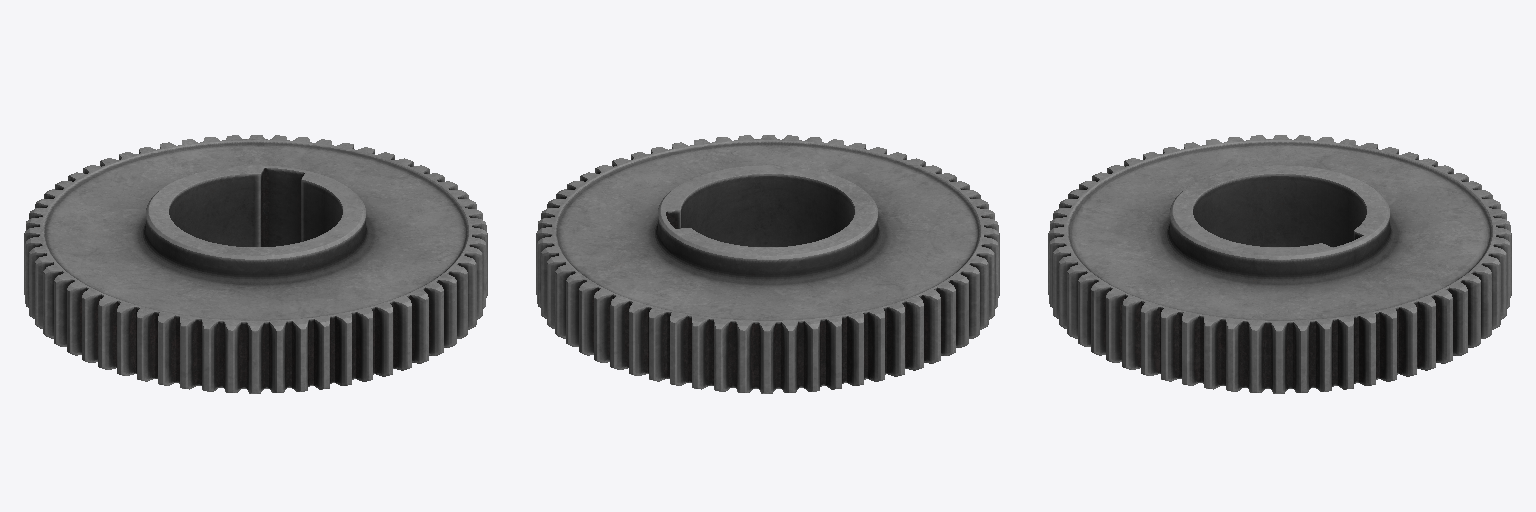
3 renders of one model, left to right at view 1: azimuth 30°, elevation 25°; view 2: azimuth 150°, elevation 25°; view 3: azimuth 270°, elevation 25°, orthographic.
Visible parts, largest first — view 1: Gear2; view 2: Gear2; view 3: Gear2.
Part boxes in pixels (left/top/right/bottom): Gear2: left=24, top=135, right=487, bottom=393; Gear2: left=536, top=135, right=999, bottom=393; Gear2: left=1048, top=135, right=1511, bottom=393.
Bounding box in the file's own units: 18.14 × 3.93 × 18.14.
Materials: 1 (1 with a texture image).